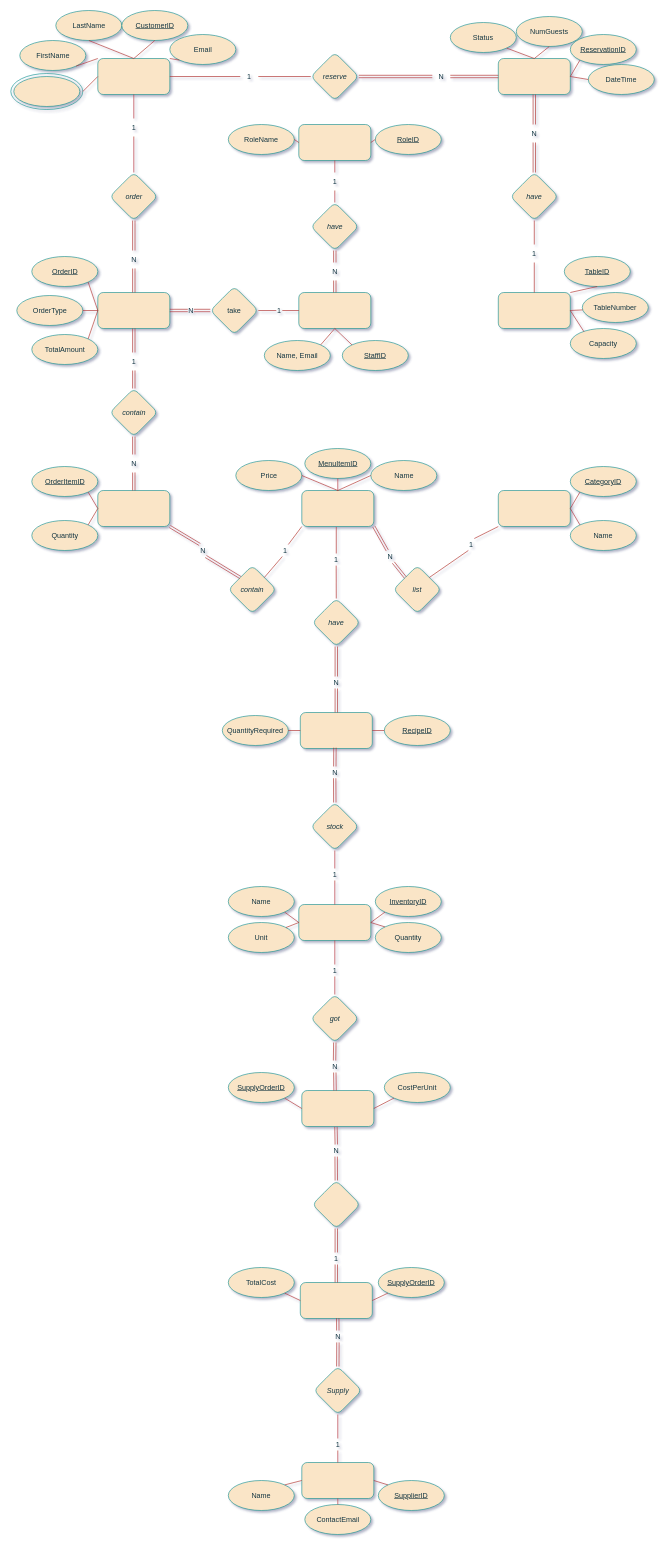
The diagram is 668 pixels wide and 1549 high, and some of its shapes have lost their labels. Here are the shapes that lost their labels. From the top down, the centre of each, then its label:
(x=46, y=91): Phone
(x=133, y=76): Customers
(x=534, y=76): Reservations
(x=334, y=142): Roles
(x=133, y=310): Orders
(x=334, y=310): Staff
(x=534, y=310): Tables
(x=133, y=508): OrderItems
(x=337, y=508): MenuItems
(x=534, y=508): MenuCategories
(x=336, y=730): RecipeIngredients
(x=334, y=922): InventoryItems
(x=337, y=1108): SupplyOrderItems
(x=336, y=1204): supplied
(x=336, y=1300): SupplyOrders
(x=337, y=1480): Suppliers
